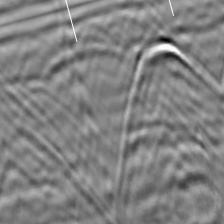Utility: (122, 35, 224, 116)
